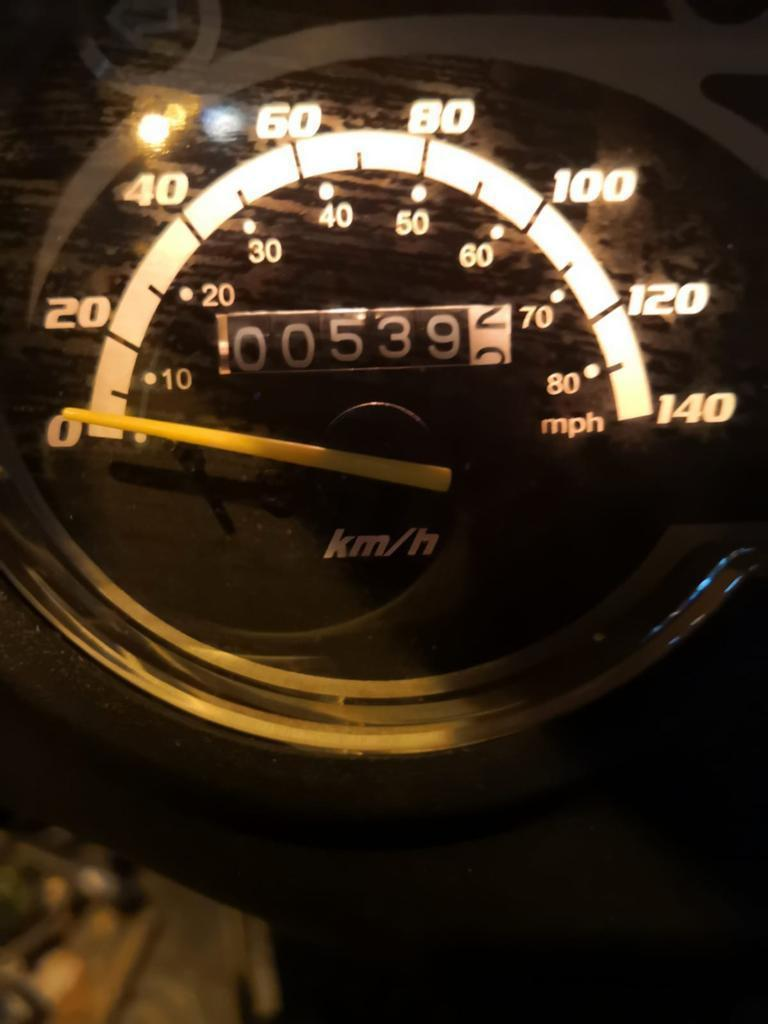0: (233, 317, 268, 374), (279, 314, 315, 369)
2: (472, 302, 510, 333)
3: (376, 313, 415, 361)
5: (326, 311, 368, 363)
9: (422, 312, 461, 359)
odometer: (210, 301, 515, 377)
